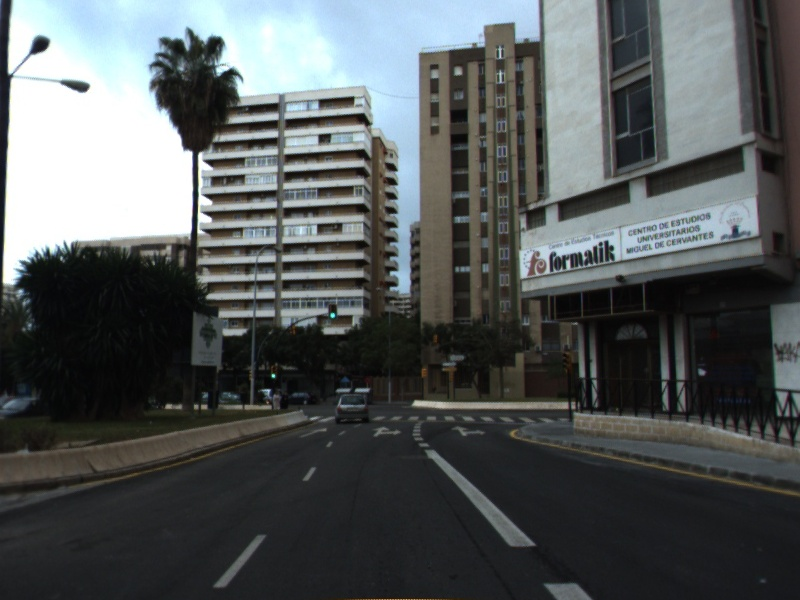STRAIGHT: (297, 425, 329, 440)
STRAIGHT_RIGHT: (449, 423, 489, 438), (370, 424, 404, 439)
